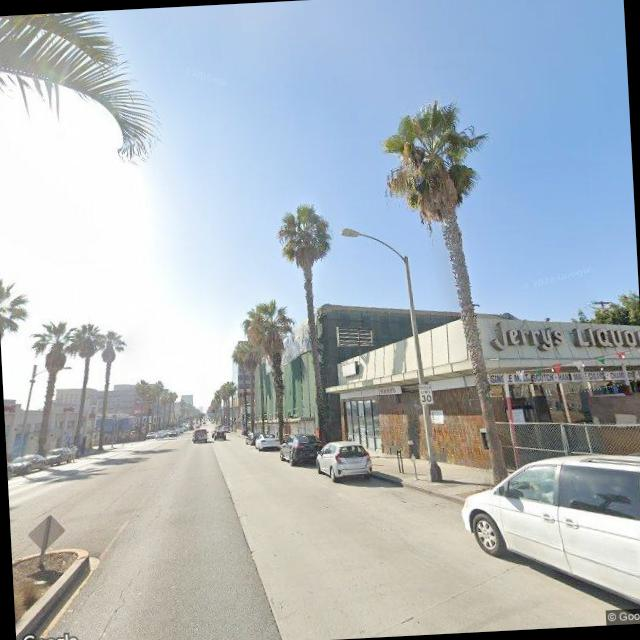pothole: (83, 564, 149, 640)
